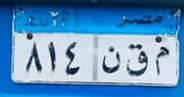1: (47, 41, 58, 72)
4: (64, 42, 80, 76)
8: (26, 42, 42, 74)
meem: (153, 45, 170, 78)
noon: (101, 46, 121, 73)
qaaf: (125, 43, 148, 77)
